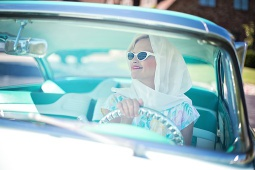female: (120, 35, 170, 85)
